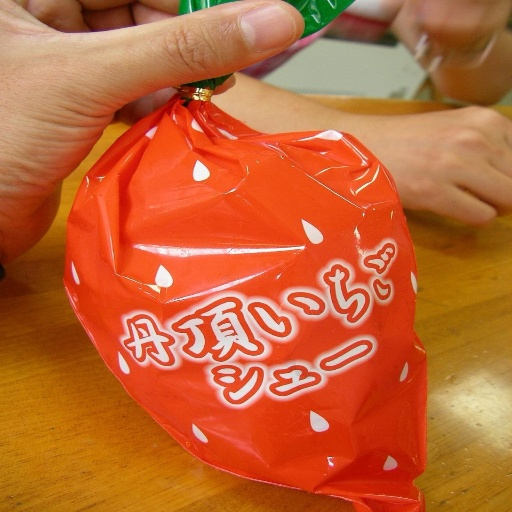hand: (0, 0, 307, 268), (347, 105, 510, 229), (406, 0, 510, 49)
